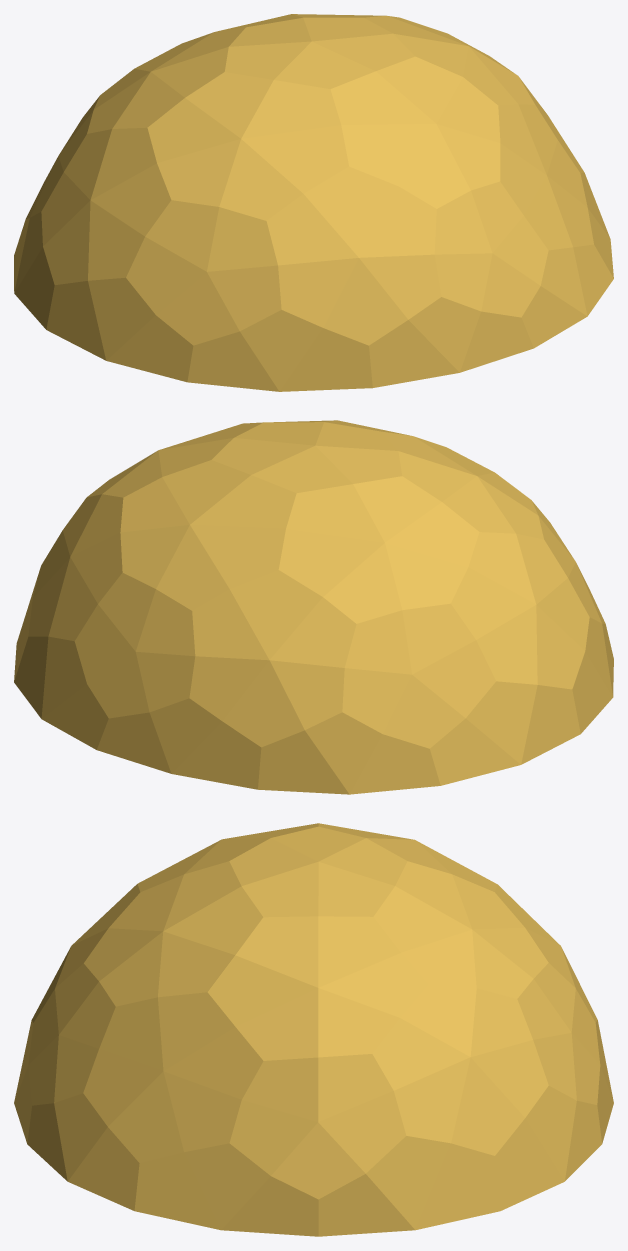
Rendered from top_bun-transformed.glb.
The picture shows the model from 3 angles, top to bottom: view 1: azimuth 30°, elevation 25°; view 2: azimuth 150°, elevation 25°; view 3: azimuth 270°, elevation 25°; orthographic projection. The views are drawn at different scales.
Parts seen in each view (by area): view 1: top_bun; view 2: top_bun; view 3: top_bun.
Boxes of the visible parts, <box> form: top_bun: <box>14,14,613,391</box>; top_bun: <box>14,420,613,794</box>; top_bun: <box>14,823,613,1236</box>.
Bounding box in the file's own units: 1.9 × 0.7765 × 1.76.
